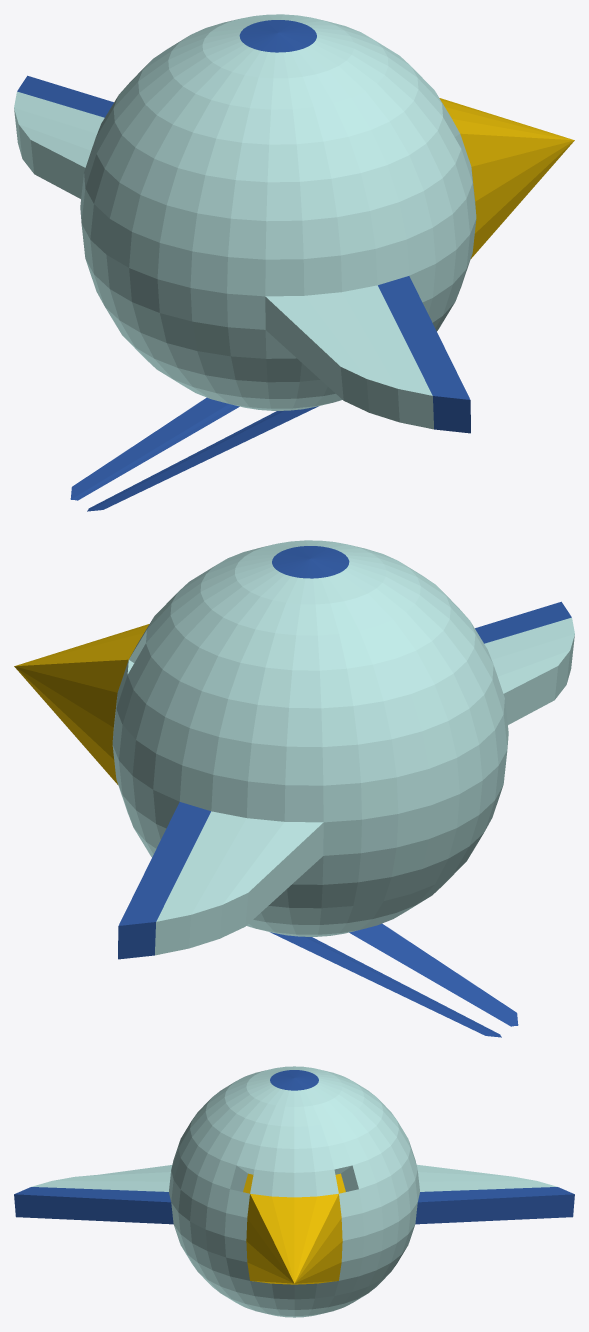
File: Seagull.fbx
3 views of the same model, one above another, from view 1: azimuth 30°, elevation 25°; view 2: azimuth 150°, elevation 25°; view 3: azimuth 270°, elevation 25° (orthographic). The views are drawn at different scales.
Parts seen in each view (by area): view 1: Sphere; view 2: Sphere; view 3: Sphere.
Boxes of the visible parts, x1,y1,x2,y2 form: Sphere: (14, 14, 574, 511); Sphere: (14, 540, 574, 1037); Sphere: (14, 1066, 574, 1317).
Bounding box in the file's own units: 289 × 236 × 446.
